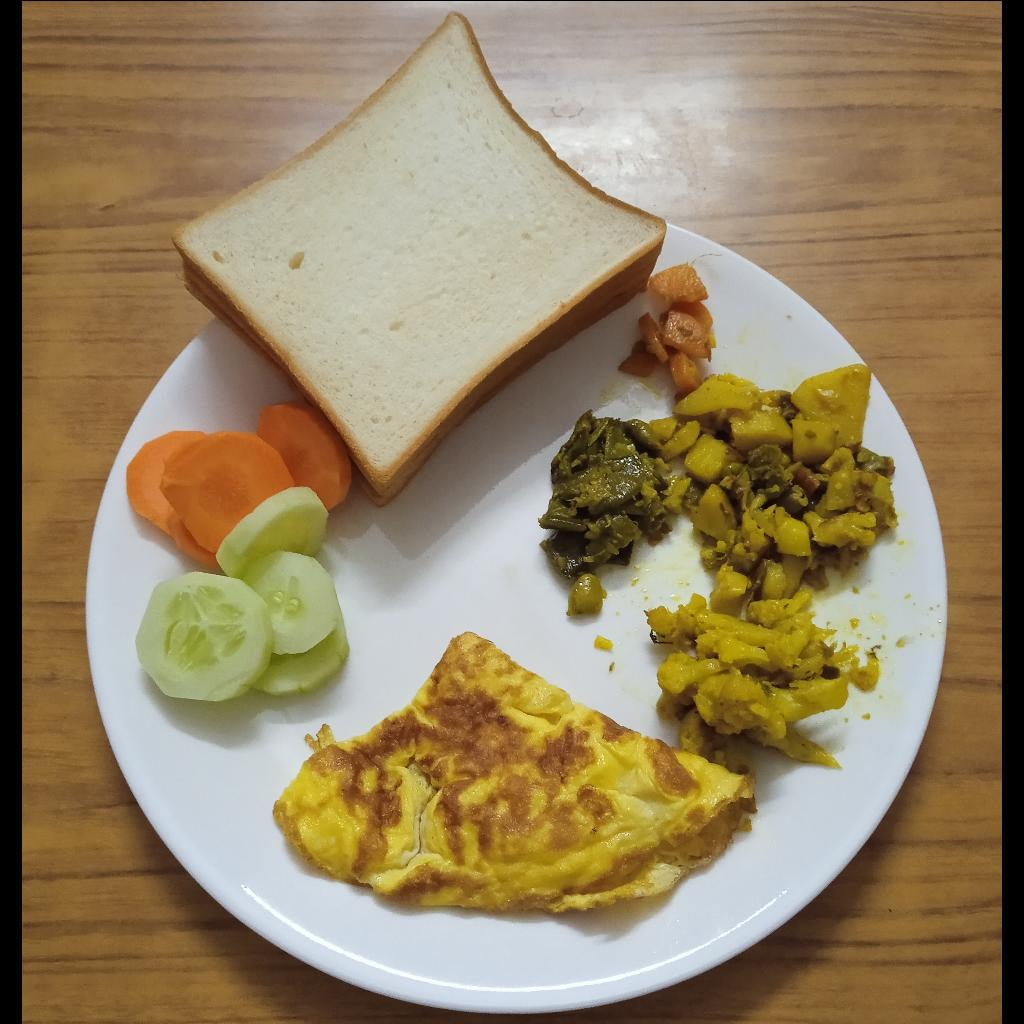bread: (172, 9, 667, 507)
carrot: (126, 402, 352, 567)
cucumber: (136, 488, 350, 702)
egg-poached: (273, 632, 756, 912)
vegetable: (542, 263, 900, 770)
